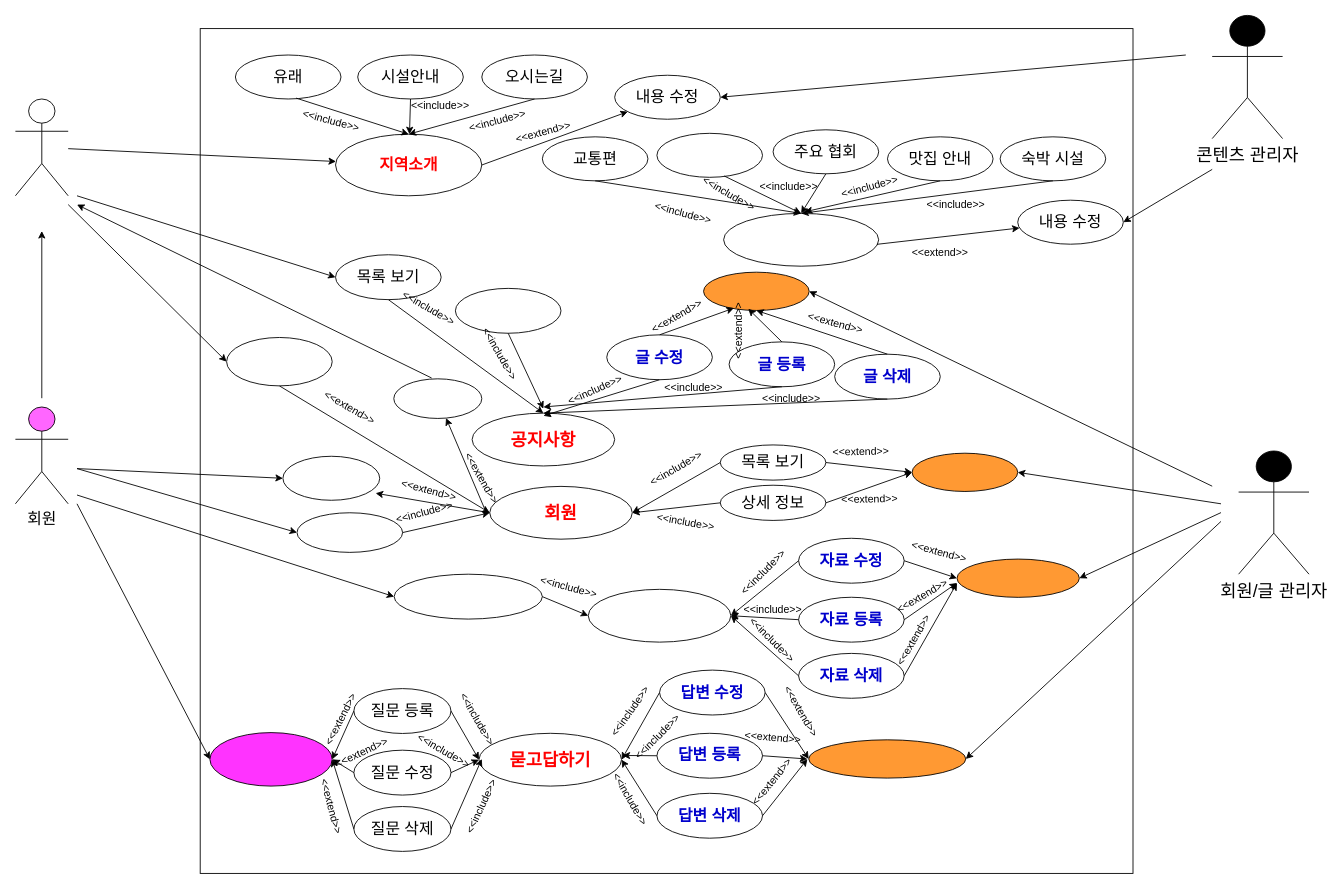
Some shapes in this 1343 by 889 pixel diagram are drawn without their labels. Here are the shapes that lost their labels. From the top down, the centre of each, then its label:
At point 41,147: "비회원".
At point 709,154: "주요빌딩".
At point 801,239: "이용안내".
At point 508,310: "상세 보기".
At point 756,290: "글 관리".
At point 279,361: "회원가입".
At point 437,398: "탈퇴".
At point 331,477: "정보수정".
At point 964,471: "회원관리".
At point 349,532: "로그인".
At point 467,596: "자료 다운로드".
At point 1017,577: "자료 관리".
At point 659,615: "자료실".
At point 270,759: "질문".
At point 887,758: "Qna 관리".
